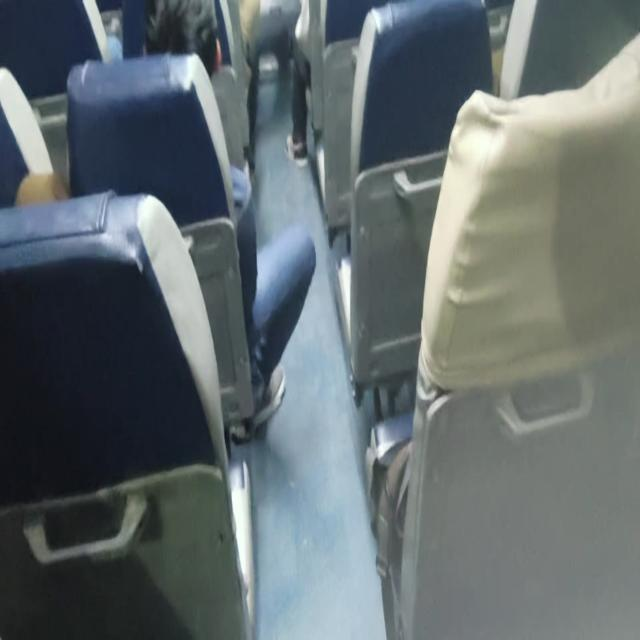person: (113, 0, 228, 112)
